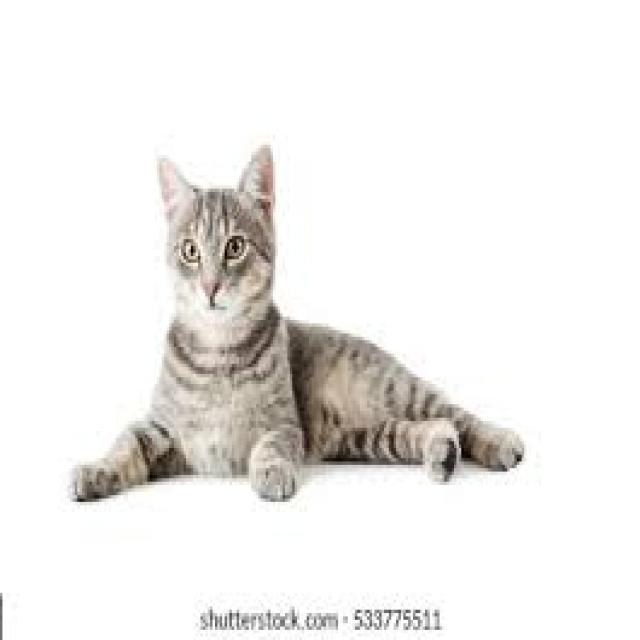Cat: (64, 136, 526, 514)
